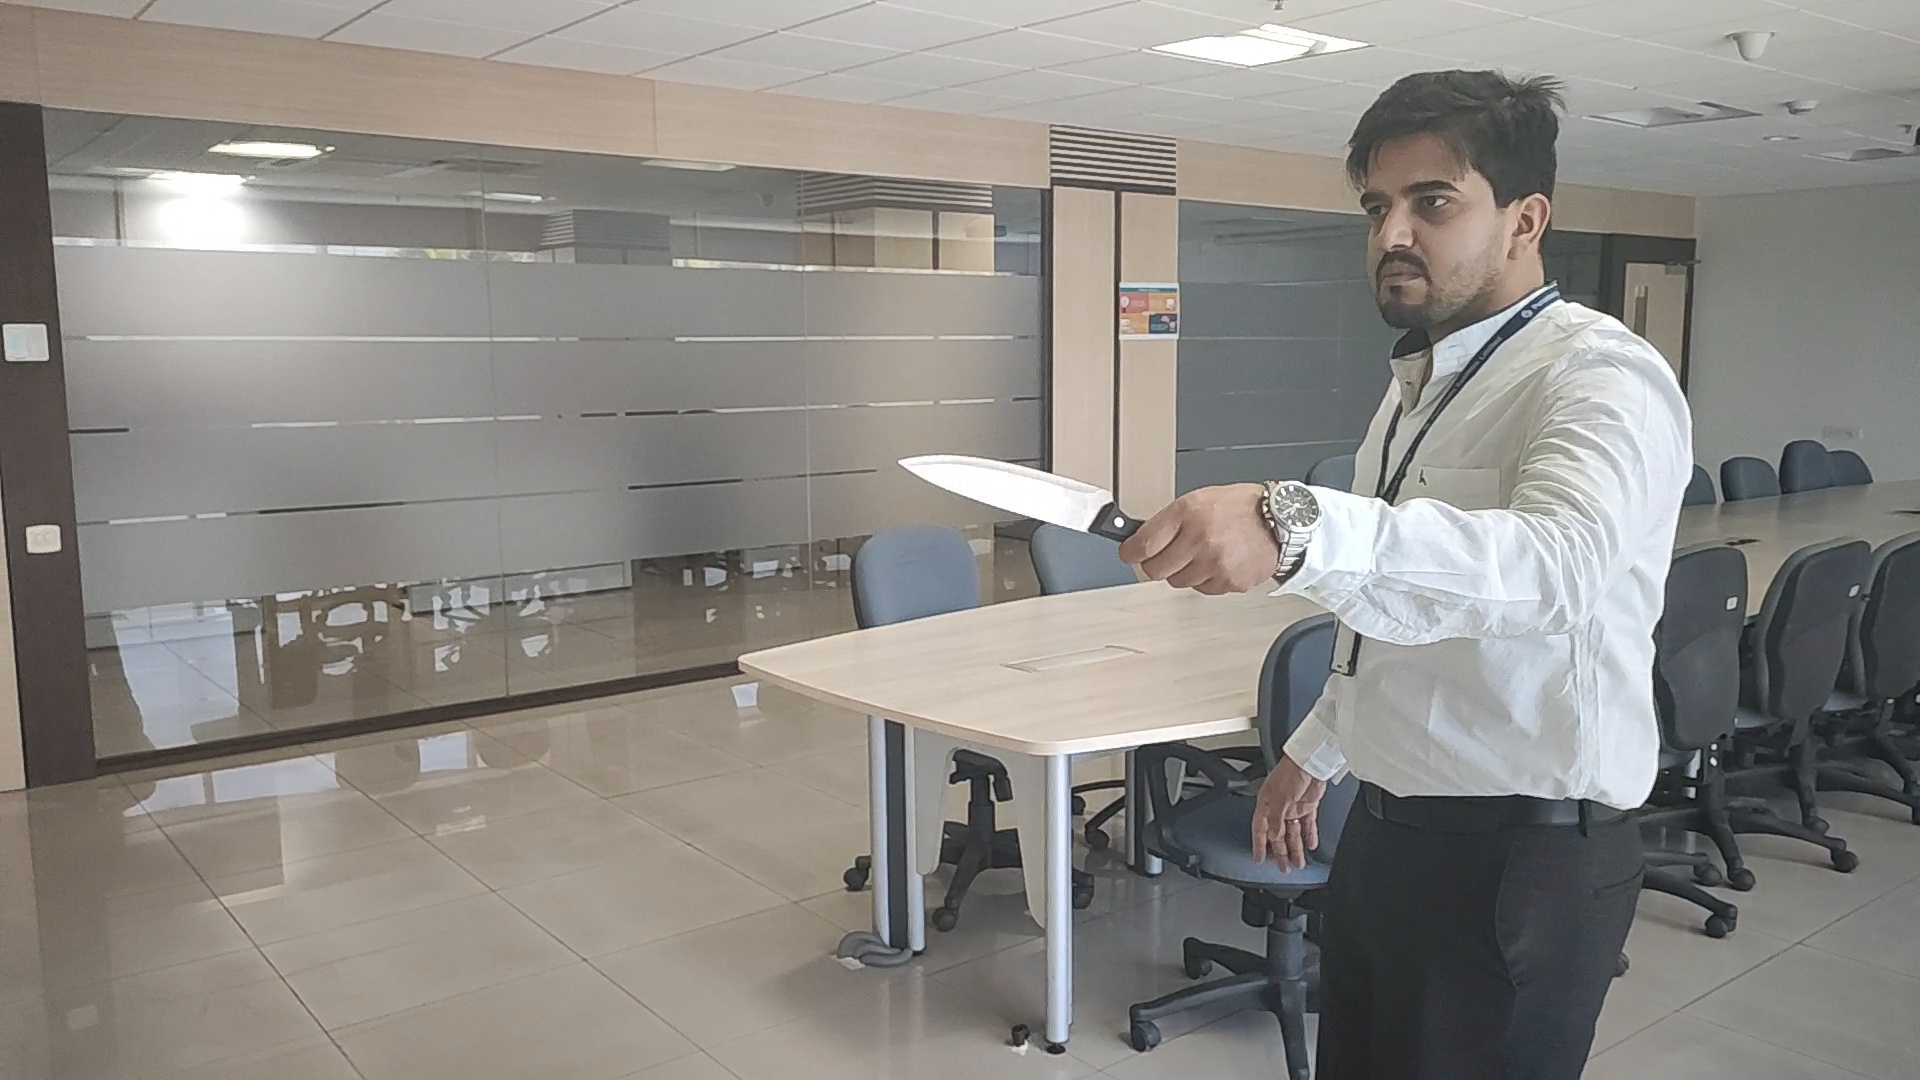knife: (899, 446, 1135, 542)
